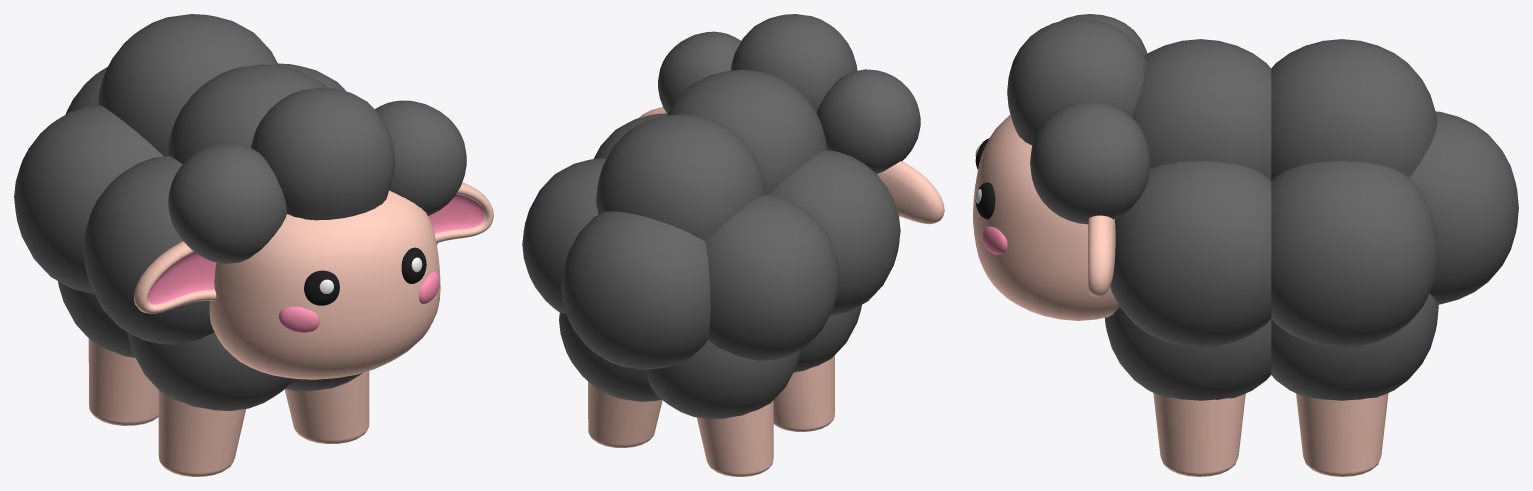
Rendered from Farm_15_Sheep_2.glb.
3 renders of one model, left to right at view 1: azimuth 30°, elevation 25°; view 2: azimuth 150°, elevation 25°; view 3: azimuth 270°, elevation 25°, orthographic. The views are drawn at different scales.
Parts seen in each view (by area): view 1: Farm_15_Sheep_2; view 2: Farm_15_Sheep_2; view 3: Farm_15_Sheep_2.
Part boxes in pixels (<box>): Farm_15_Sheep_2: <box>14,14,493,476</box>; Farm_15_Sheep_2: <box>522,14,944,476</box>; Farm_15_Sheep_2: <box>973,14,1518,476</box>.
Bounding box in the file's own units: 1.23 × 1.3 × 1.59.
Materials: 1 (1 with a texture image).
